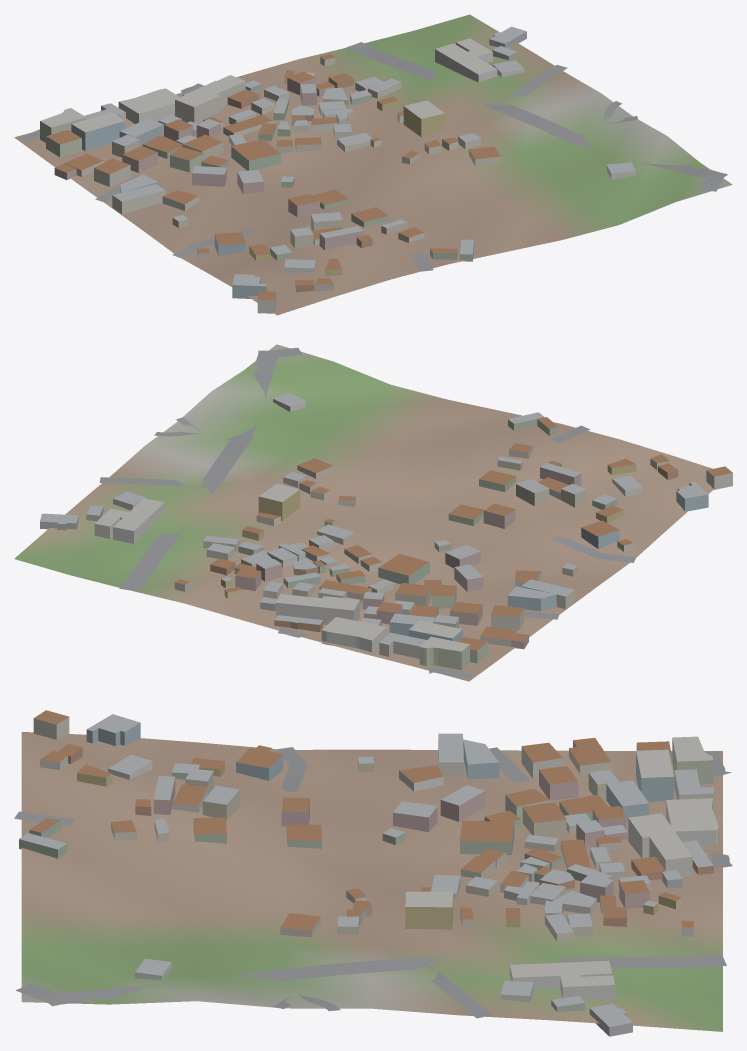
3 views of the same model, one above another, from view 1: azimuth 30°, elevation 25°; view 2: azimuth 150°, elevation 25°; view 3: azimuth 270°, elevation 25° (orthographic). The views are drawn at different scales.
Parts seen in each view (by area): view 1: Lo; view 2: Lo; view 3: Lo.
Part boxes in pixels (x1,y1,x2,y2): Lo: (14,14,732,315); Lo: (14,344,732,681); Lo: (14,710,732,1036).
Size of the model in its own units: 270 by 19.29 by 262.
